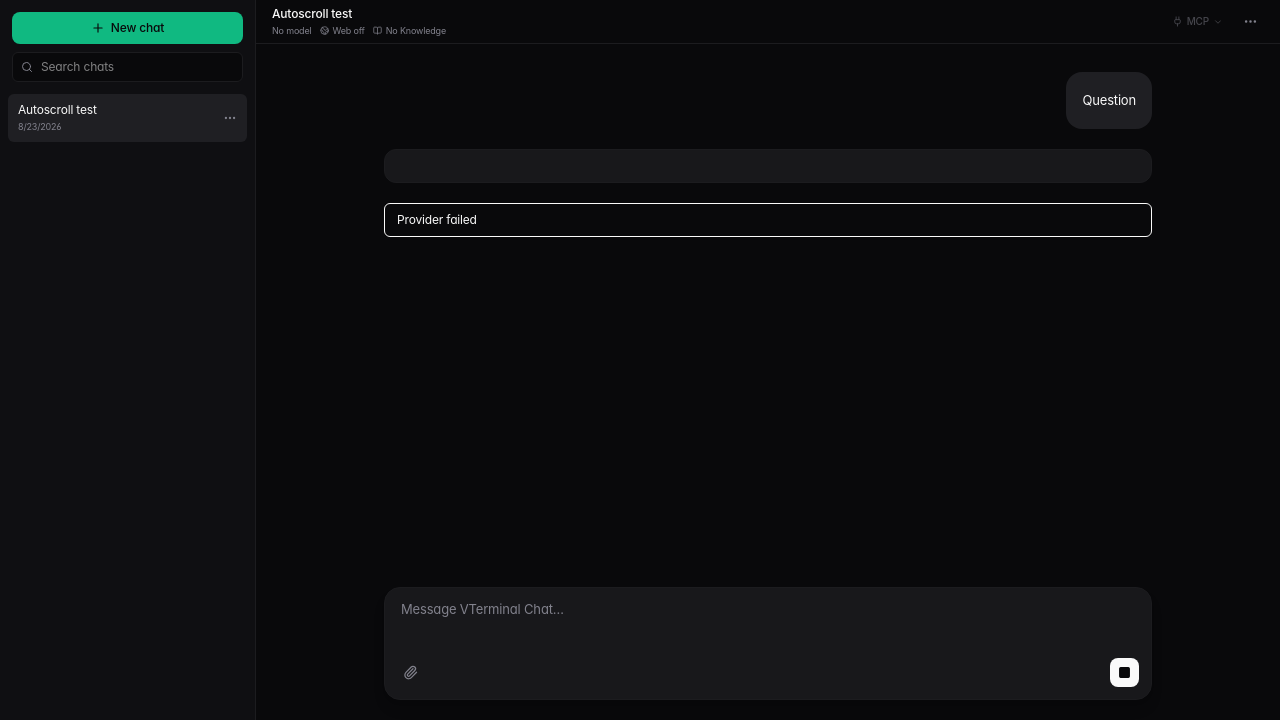
Test: Chat workspace autoscroll › keeps a failed request busy until the provider settles instead of accepting an overlapping send
Expected: the button titled "Stop response" is shown, x1=1110 y1=658 x2=1139 y2=687
Click the button named "Chat list actions for Autoscroll test": x=230, y=118 x1=217 y1=105 x2=243 y2=131
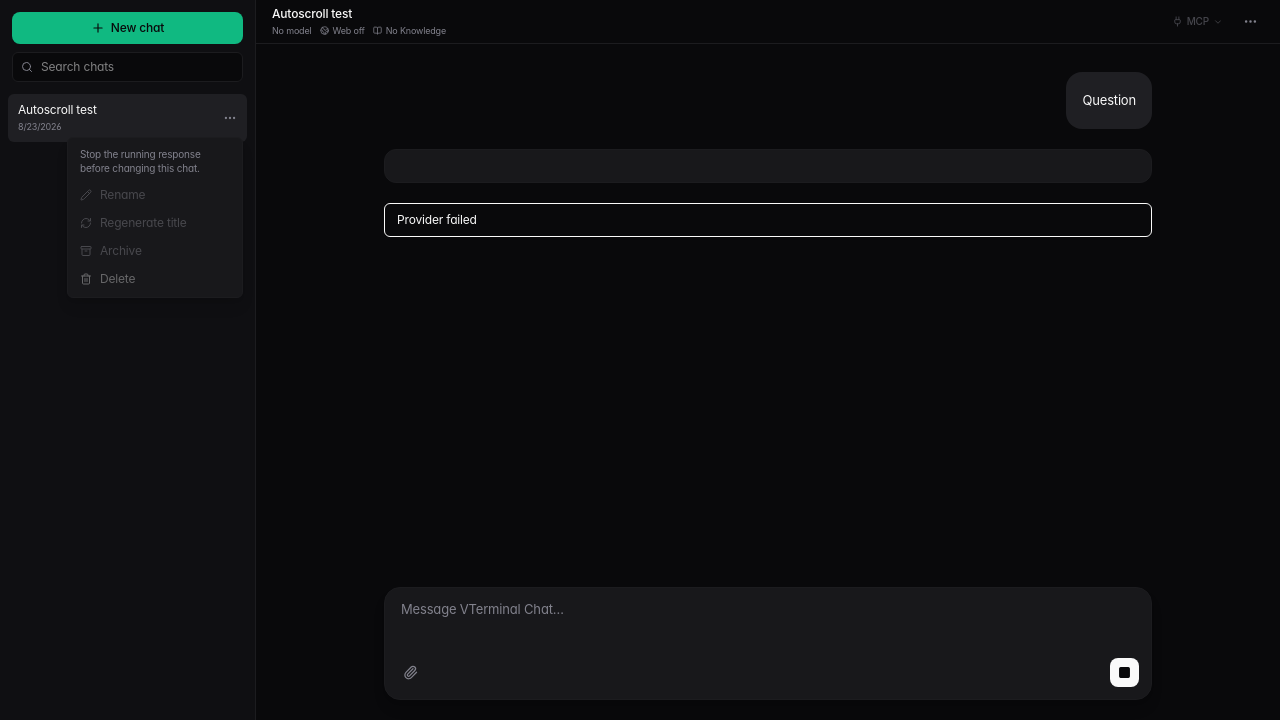
Now the menu item "Rename" is disabled, box x1=72 y1=181 x2=238 y2=209
